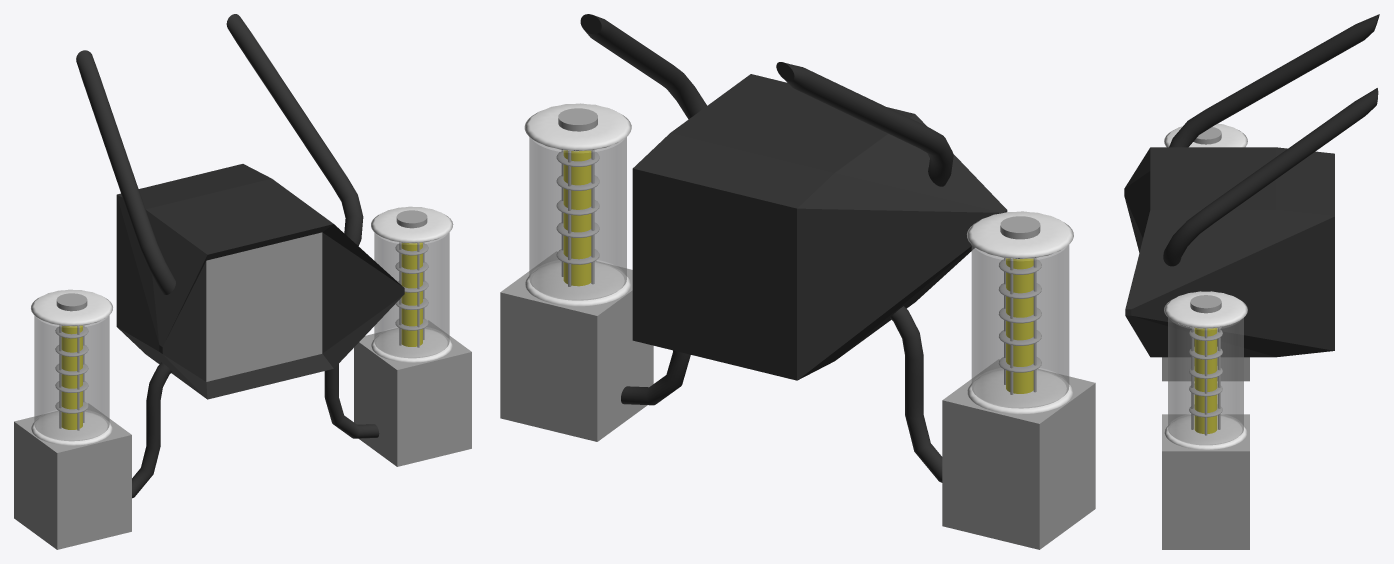
The model's file is TVBoss1.fbx.
3 renders of one model, left to right at view 1: azimuth 30°, elevation 25°; view 2: azimuth 150°, elevation 25°; view 3: azimuth 270°, elevation 25°, orthographic. The views are drawn at different scales.
Parts seen in each view (by area): view 1: pCylinder13, pCube2, pCube3, Battery:pCylinder10, pCylinder10; view 2: pCylinder13, pCube2, Battery:pCylinder10, pCylinder10, pCube3; view 3: pCylinder13, pCylinder10, pCube3, pCube2, Battery:pCylinder10.
Boxes of the visible parts, left/top/right/bottom form: pCylinder13: left=76, top=14, right=404, bottom=498; pCube2: left=14, top=403, right=131, bottom=549; pCube3: left=354, top=320, right=471, bottom=466; Battery:pCylinder10: left=31, top=289, right=112, bottom=445; pCylinder10: left=371, top=206, right=453, bottom=362; pCylinder13: left=580, top=14, right=1007, bottom=482; pCube2: left=942, top=359, right=1095, bottom=549; Battery:pCylinder10: left=967, top=211, right=1073, bottom=414; pCylinder10: left=524, top=103, right=631, bottom=306; pCube3: left=500, top=251, right=653, bottom=441; pCylinder13: left=1124, top=14, right=1379, bottom=357; pCylinder10: left=1164, top=291, right=1247, bottom=449; pCube3: left=1162, top=414, right=1249, bottom=549; pCube2: left=1162, top=357, right=1249, bottom=381; Battery:pCylinder10: left=1164, top=123, right=1247, bottom=147.
Bounding box in the file's own units: 66.85 × 59.92 × 35.07.
